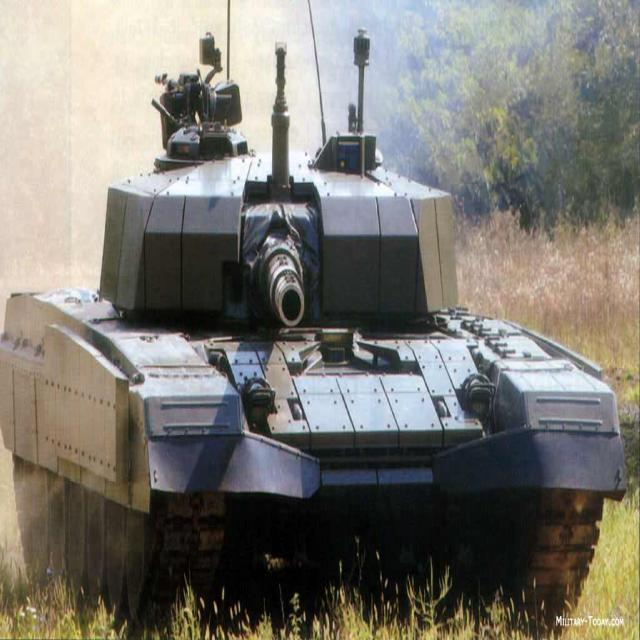Tank: (10, 26, 619, 599)
